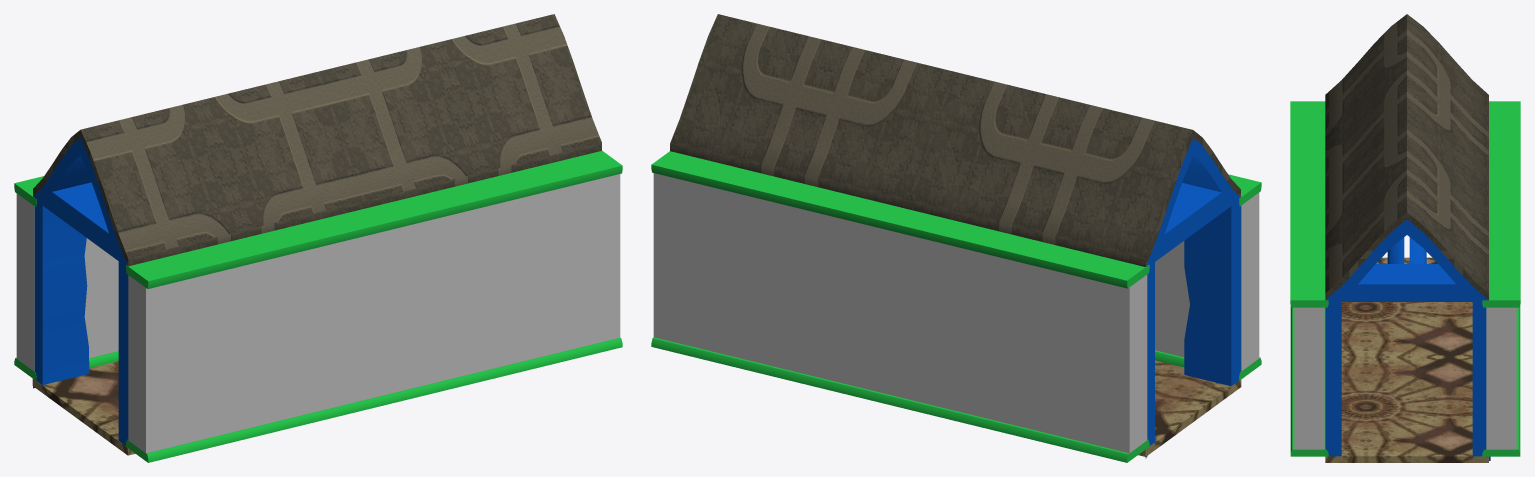
File: Basic Hallway 02.fbx
The picture shows the model from 3 angles, left to right: view 1: azimuth 30°, elevation 25°; view 2: azimuth 150°, elevation 25°; view 3: azimuth 270°, elevation 25°; orthographic projection. The views are drawn at different scales.
Parts seen in each view (by area): view 1: Plane_001; view 2: Plane_001; view 3: Plane_001.
Part boxes in pixels (<box>): Plane_001: <box>14,14,622,462</box>; Plane_001: <box>651,14,1261,462</box>; Plane_001: <box>1290,14,1520,462</box>.
Bounding box in the file's own units: 1258 × 744 × 615.
